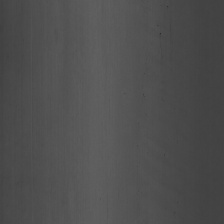inclusion: (157, 30, 163, 38)
